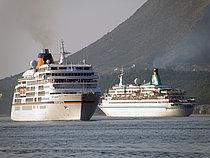Ship: (13, 35, 109, 127), (97, 69, 198, 121)
